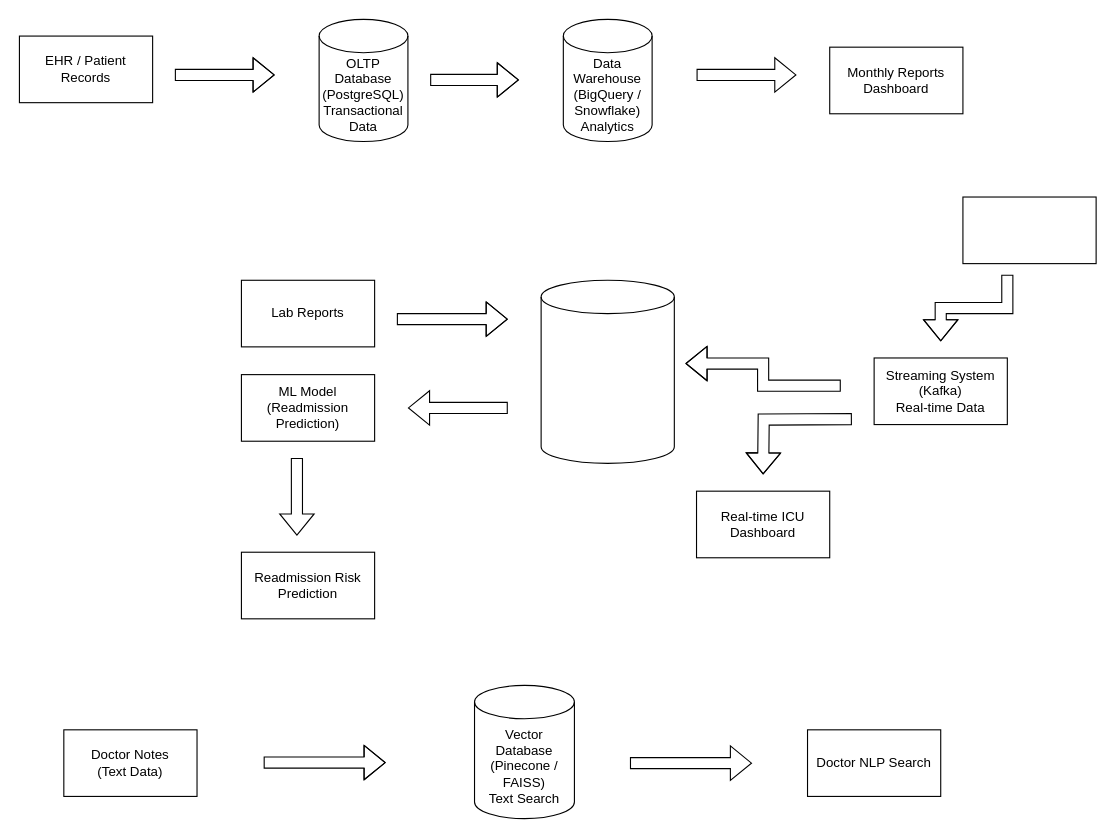
Some shapes in this 1116 by 838 pixel diagram are drawn without their labels. Here are the shapes that lost their labels. From the top down, the centre of each, then its label:
At point (1029, 230): "ICU Monitoring Devices (Real-time Vitals)".
At point (607, 371): "Data Lake (S3 / GCS) Raw Data Storage".
